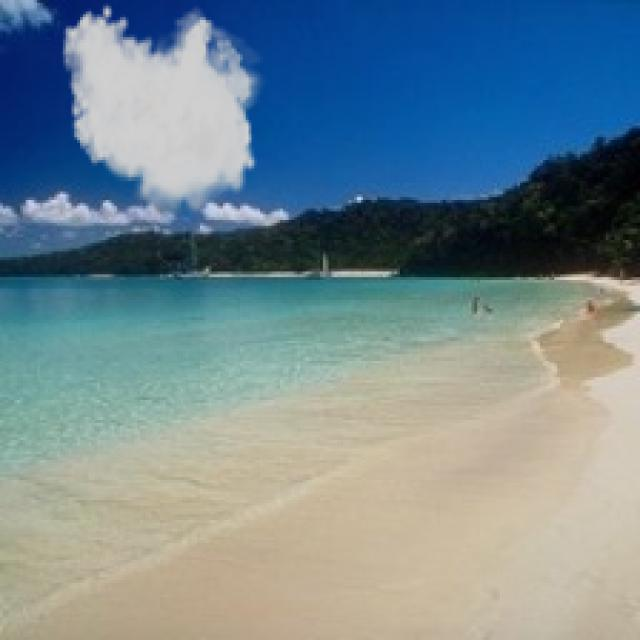Smoke: (60, 3, 269, 223)
